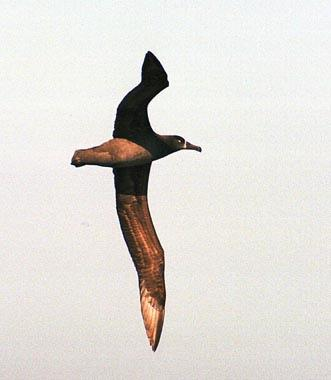bird: (70, 50, 192, 351)
